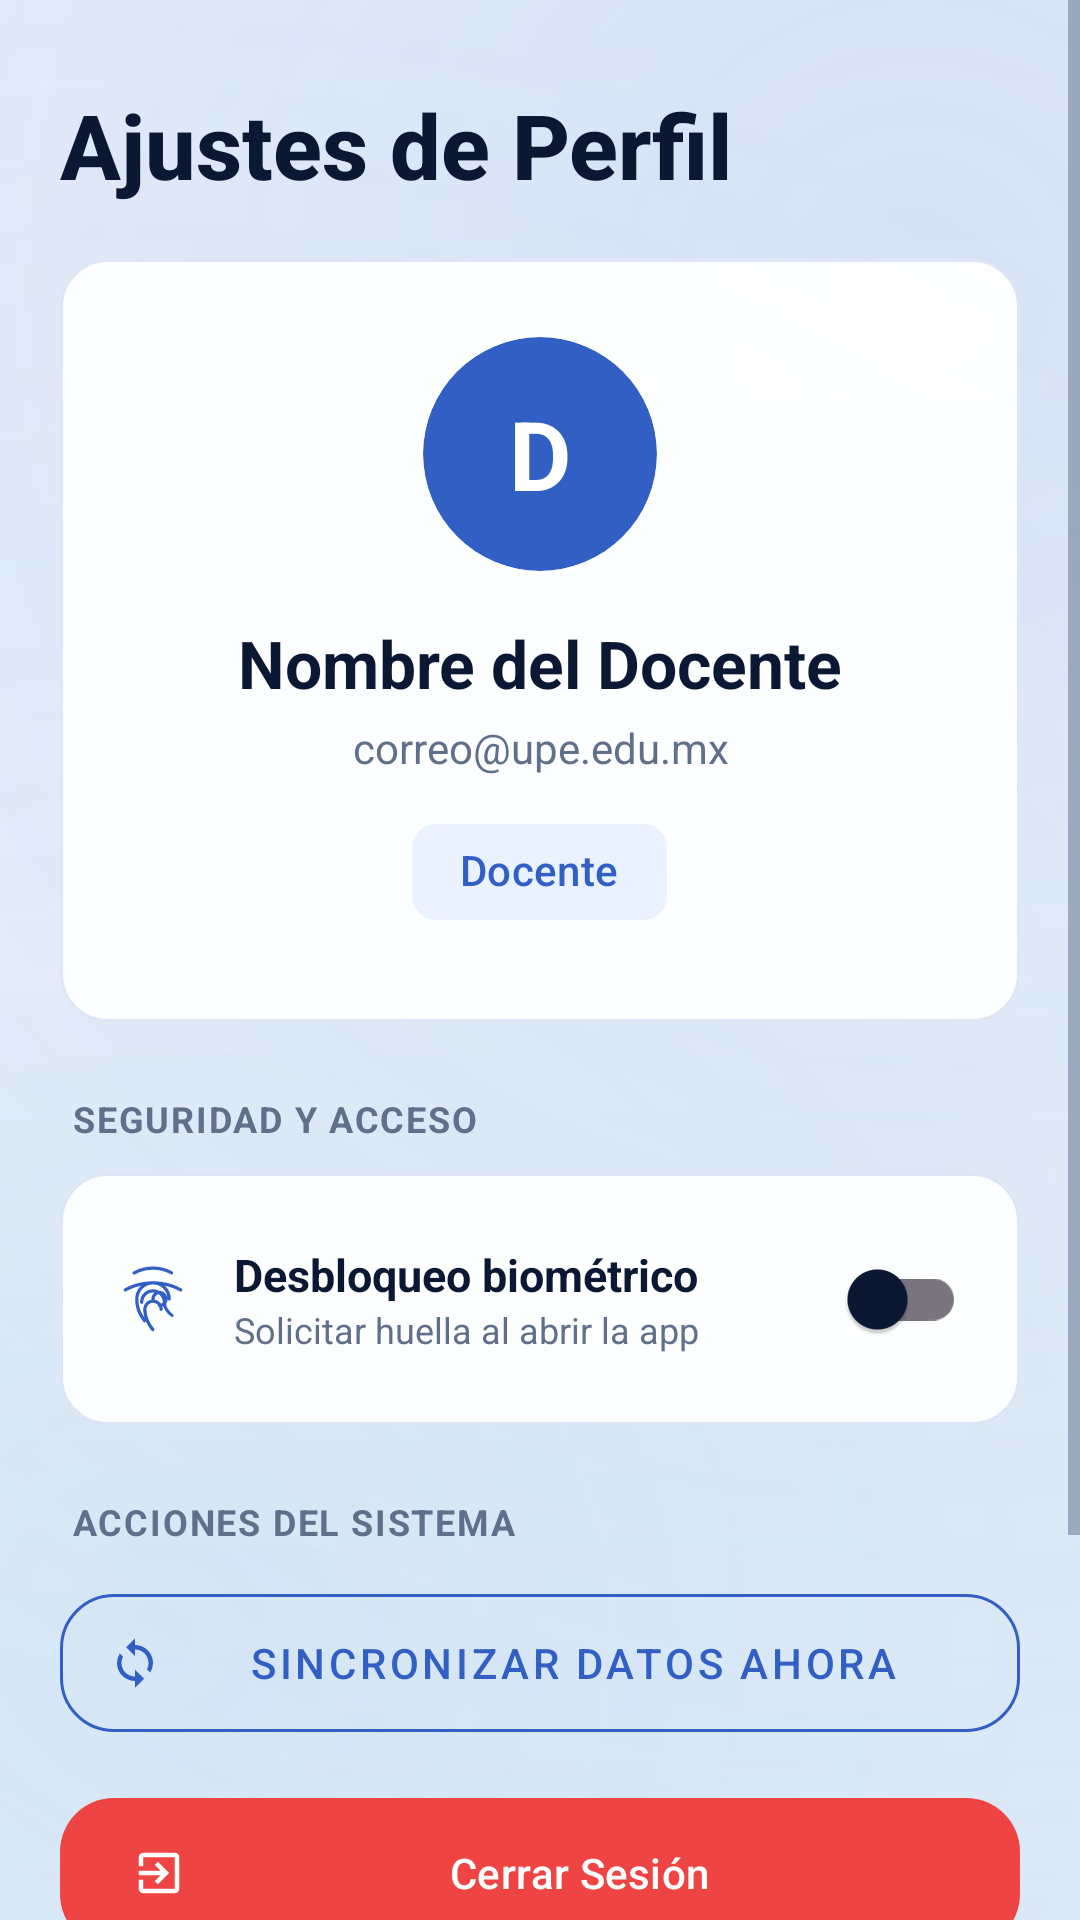

Screen size 1080w x 1920h. Icon name, then its center in pixels as (x=x, y=y):
Huella digital: (x=153, y=1299)
